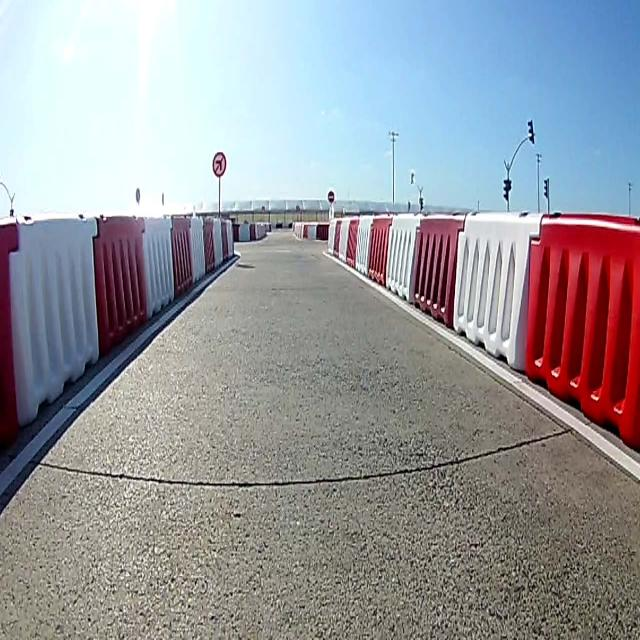girisyok: (328, 190, 335, 204)
soladonulmez: (212, 152, 226, 177)
